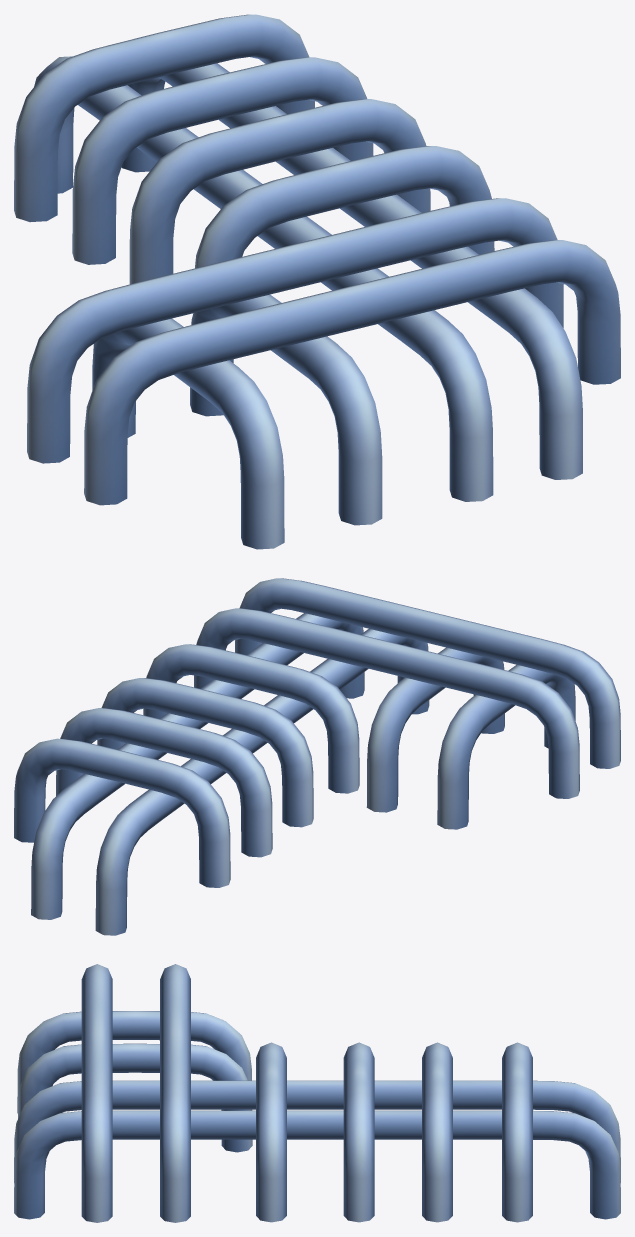
File: Lock_L2N.fbx
The picture shows the model from 3 angles, top to bottom: view 1: azimuth 30°, elevation 25°; view 2: azimuth 150°, elevation 25°; view 3: azimuth 270°, elevation 25°; orthographic projection. The views are drawn at different scales.
Visible parts, largest first — view 1: lock_L2N; view 2: lock_L2N; view 3: lock_L2N.
Part boxes in pixels (x1,y1,x2,y2): lock_L2N: (14,14,620,549); lock_L2N: (14,578,620,935); lock_L2N: (14,964,620,1222).
Bounding box in the file's own units: 2.32 × 0.779 × 3.34.
